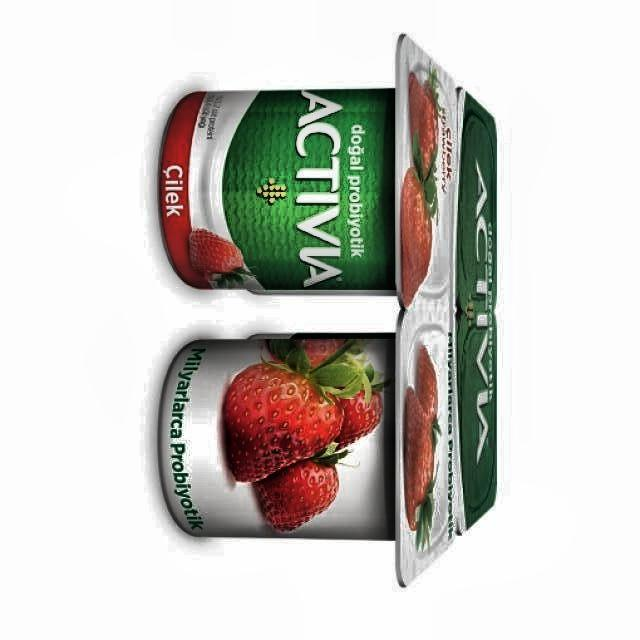plastic: (159, 36, 496, 584)
